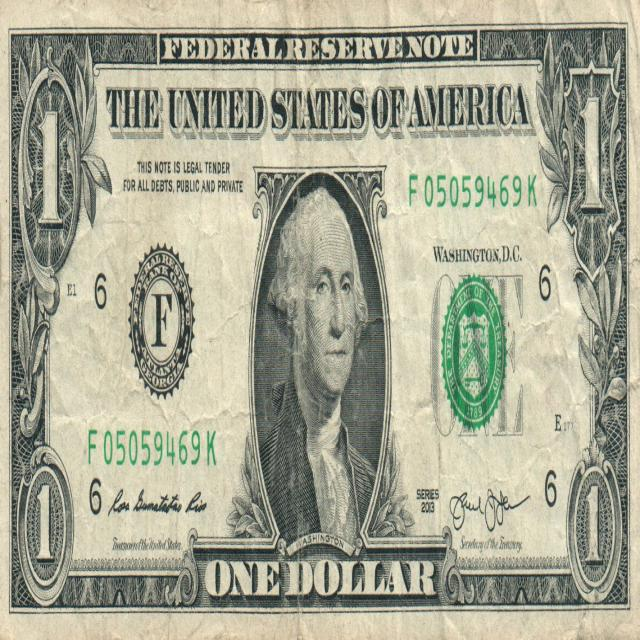SerialNumber: (88, 430, 215, 465), (409, 174, 536, 207)
